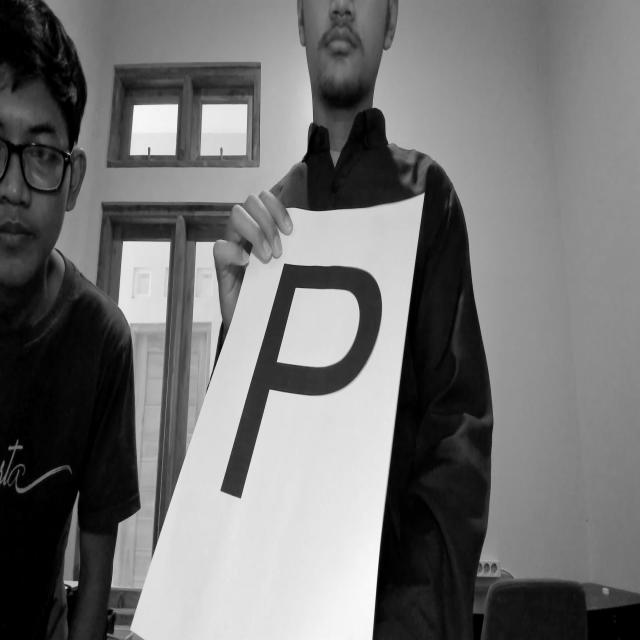p: (218, 240, 390, 540)
